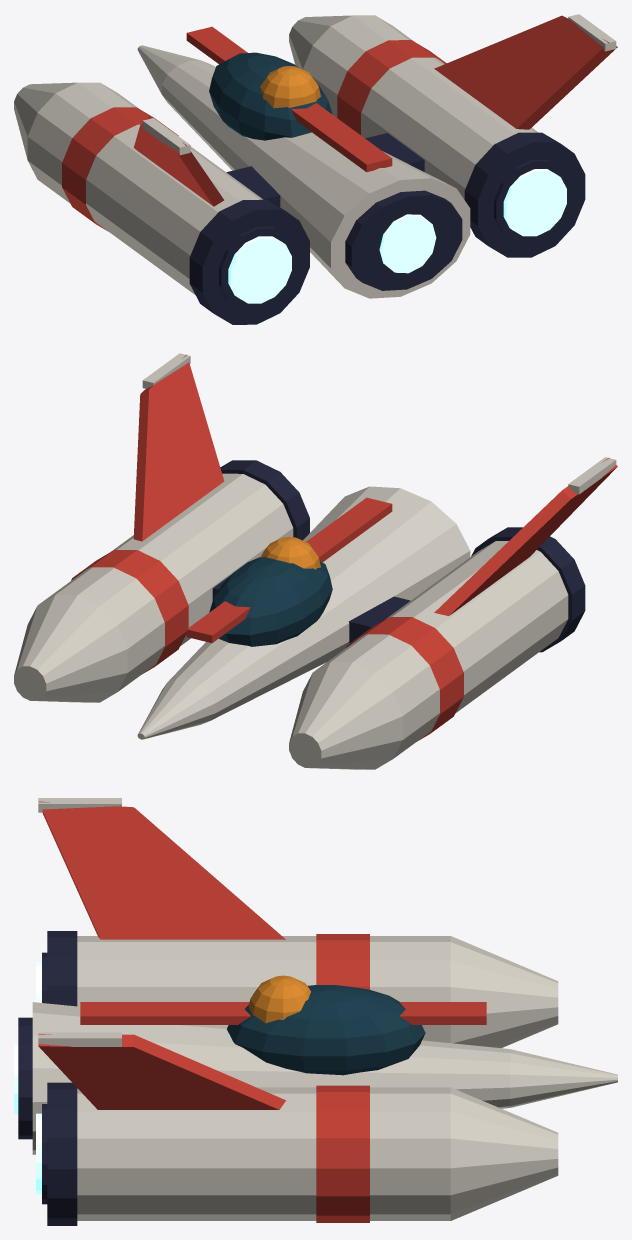
File: faisca.glb
3 renders of one model, top to bottom at view 1: azimuth 30°, elevation 25°; view 2: azimuth 150°, elevation 25°; view 3: azimuth 270°, elevation 25°, orthographic. The views are drawn at different scales.
Visible parts, largest first — view 1: faisca; view 2: faisca; view 3: faisca.
Boxes of the visible parts, <box> form: faisca: <box>14,14,617,324</box>; faisca: <box>14,353,617,769</box>; faisca: <box>14,798,617,1225</box>.
Bounding box in the file's own units: 4.8 × 2.09 × 5.06.
